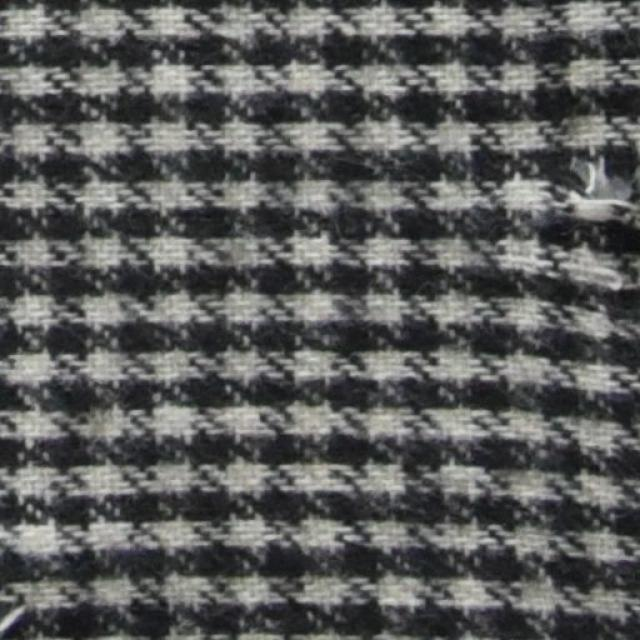Snag: (551, 112, 639, 241), (5, 569, 52, 639)
